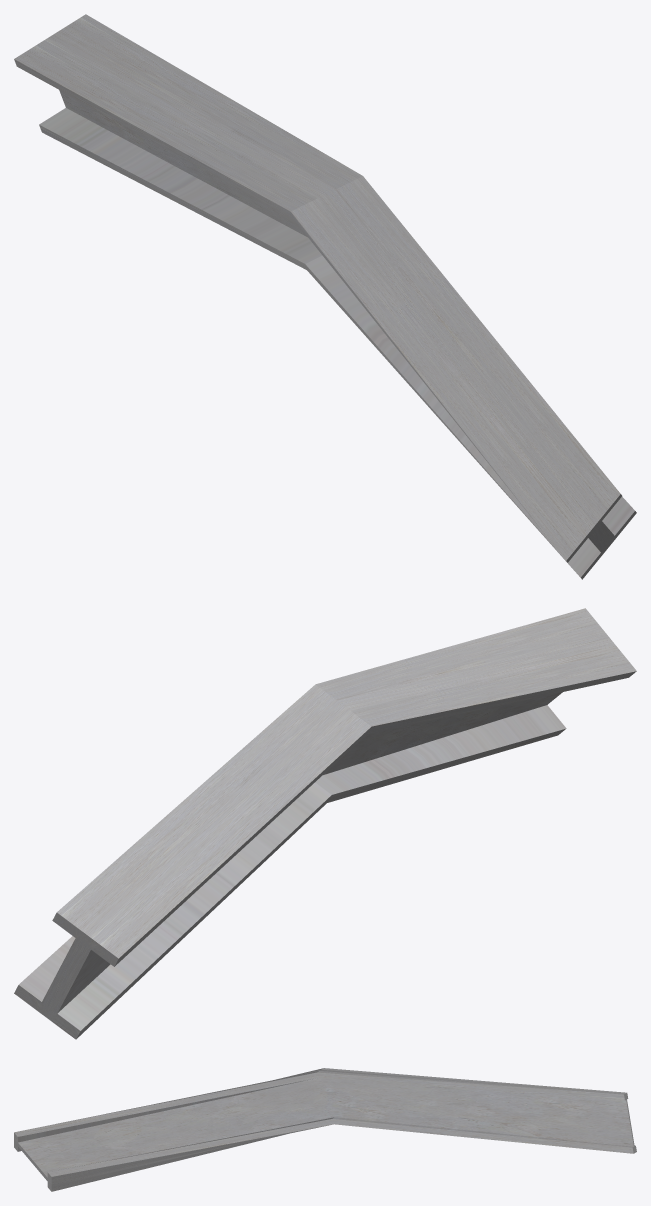
The model's file is IBeam2Bent.FBX.
The picture shows the model from 3 angles, top to bottom: view 1: azimuth 30°, elevation 25°; view 2: azimuth 150°, elevation 25°; view 3: azimuth 270°, elevation 25°; orthographic projection. The views are drawn at different scales.
Visible parts, largest first — view 1: Box01; view 2: Box01; view 3: Box01.
Boxes of the visible parts, <box> form: Box01: <box>14,14,636,579</box>; Box01: <box>14,608,636,1039</box>; Box01: <box>14,1068,636,1191</box>.
Size of the model in its own units: 0.4512 by 0.9156 by 4.15.
Materials: 1 (1 with a texture image).
